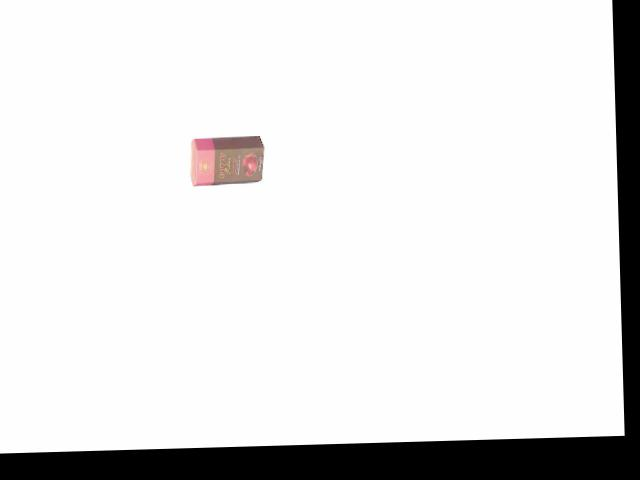chocolate: (187, 133, 271, 187)
